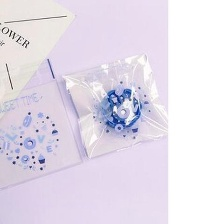snack: (57, 48, 167, 165), (0, 74, 87, 193)
